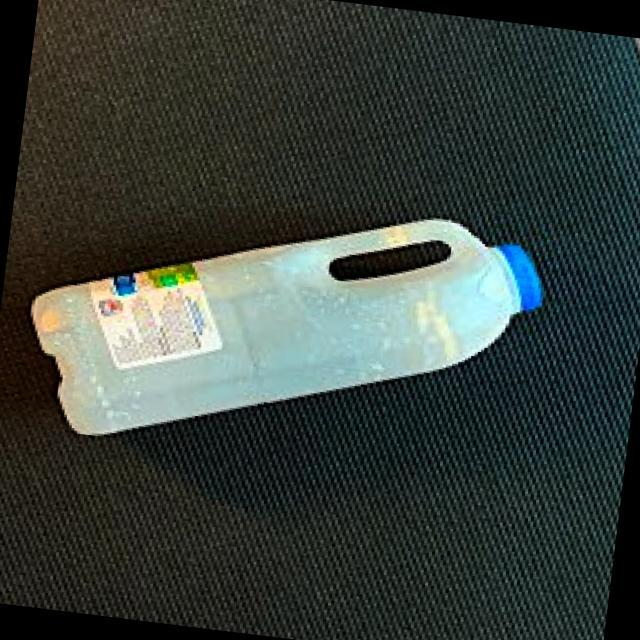HDPE Plastic: (27, 210, 551, 442)
